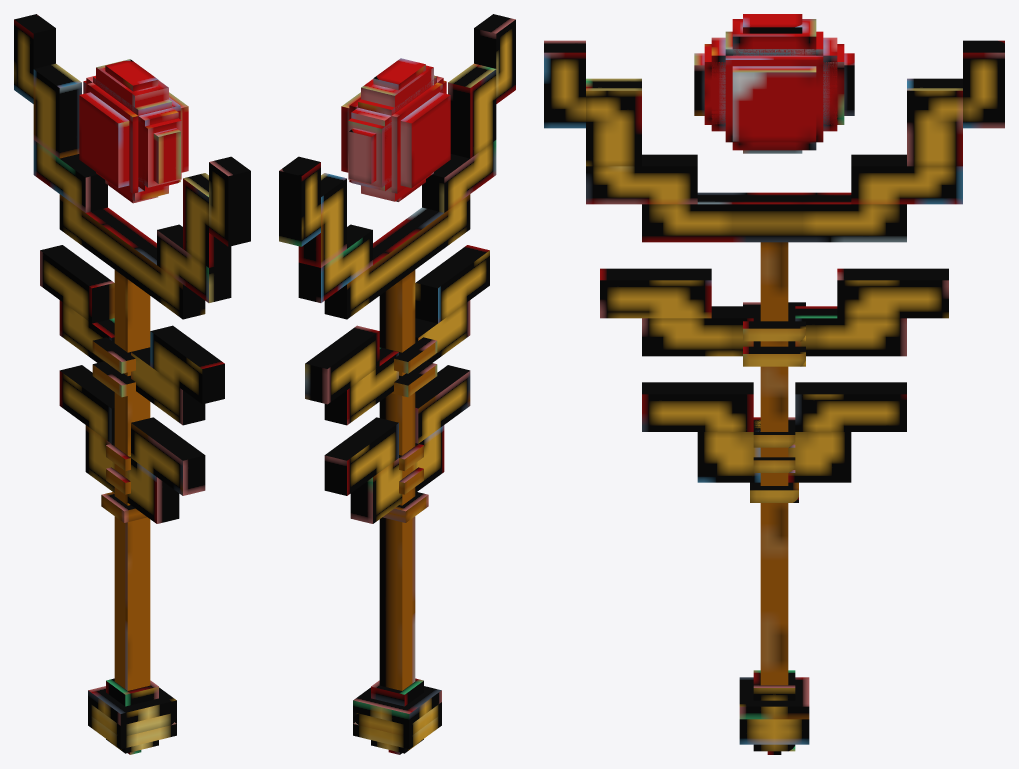
Rendered from FireStaff.fbx.
3 views of the same model, side by side, from view 1: azimuth 30°, elevation 25°; view 2: azimuth 150°, elevation 25°; view 3: azimuth 270°, elevation 25° (orthographic). The views are drawn at different scales.
Visible parts, largest first — view 1: cube, cube_16, cube_19, cube_10, cube_14, cube_13, cube_31, cube_21, cube_17, cube_18, cube_11, cube_20 (+23 smaller); view 2: cube, cube_16, cube_20, cube_11, cube_13, cube_14, cube_31, cube_22, cube_18, cube_17, cube_10, cube_19 (+23 smaller); view 3: cube_16, cube, cube_30, cube_13, cube_14, cube_10, cube_11, cube_17, cube_18, cube_19, cube_20, cube_12 (+22 smaller).
Part boxes in pixels (box(x1,y1,x2,y2)): cube: box(114, 270, 150, 690); cube_16: box(59, 194, 205, 319); cube_19: box(33, 63, 81, 158); cube_10: box(131, 417, 205, 495); cube_14: box(150, 325, 224, 404); cube_13: box(40, 245, 114, 323); cube_31: box(79, 92, 129, 188); cube_21: box(209, 156, 250, 246); cube_17: box(157, 224, 231, 302); cube_18: box(33, 140, 107, 212); cube_11: box(59, 365, 114, 443); cube_20: box(183, 173, 231, 267); cube: box(379, 270, 415, 690); cube_16: box(324, 194, 470, 319); cube_20: box(448, 63, 496, 158); cube_11: box(324, 417, 398, 495); cube_13: box(305, 325, 379, 404); cube_14: box(415, 245, 489, 323); cube_31: box(400, 92, 450, 188); cube_22: box(279, 156, 320, 246); cube_18: box(298, 224, 372, 302); cube_17: box(422, 140, 496, 212); cube_10: box(415, 365, 470, 443); cube_19: box(298, 173, 346, 267); cube_16: box(642, 192, 906, 242); cube: box(760, 242, 788, 685); cube_30: box(732, 66, 816, 141); cube_13: box(837, 268, 948, 318); cube_14: box(600, 268, 711, 318); cube_10: box(642, 382, 753, 431); cube_11: box(795, 382, 906, 431); cube_17: box(586, 154, 697, 204); cube_18: box(851, 154, 962, 204); cube_19: box(907, 78, 962, 166); cube_20: box(586, 78, 641, 166); cube_12: box(795, 306, 906, 356).
Size of the model in its own units: 39.06 by 361 by 206.
Materials: 1 (1 with a texture image).
